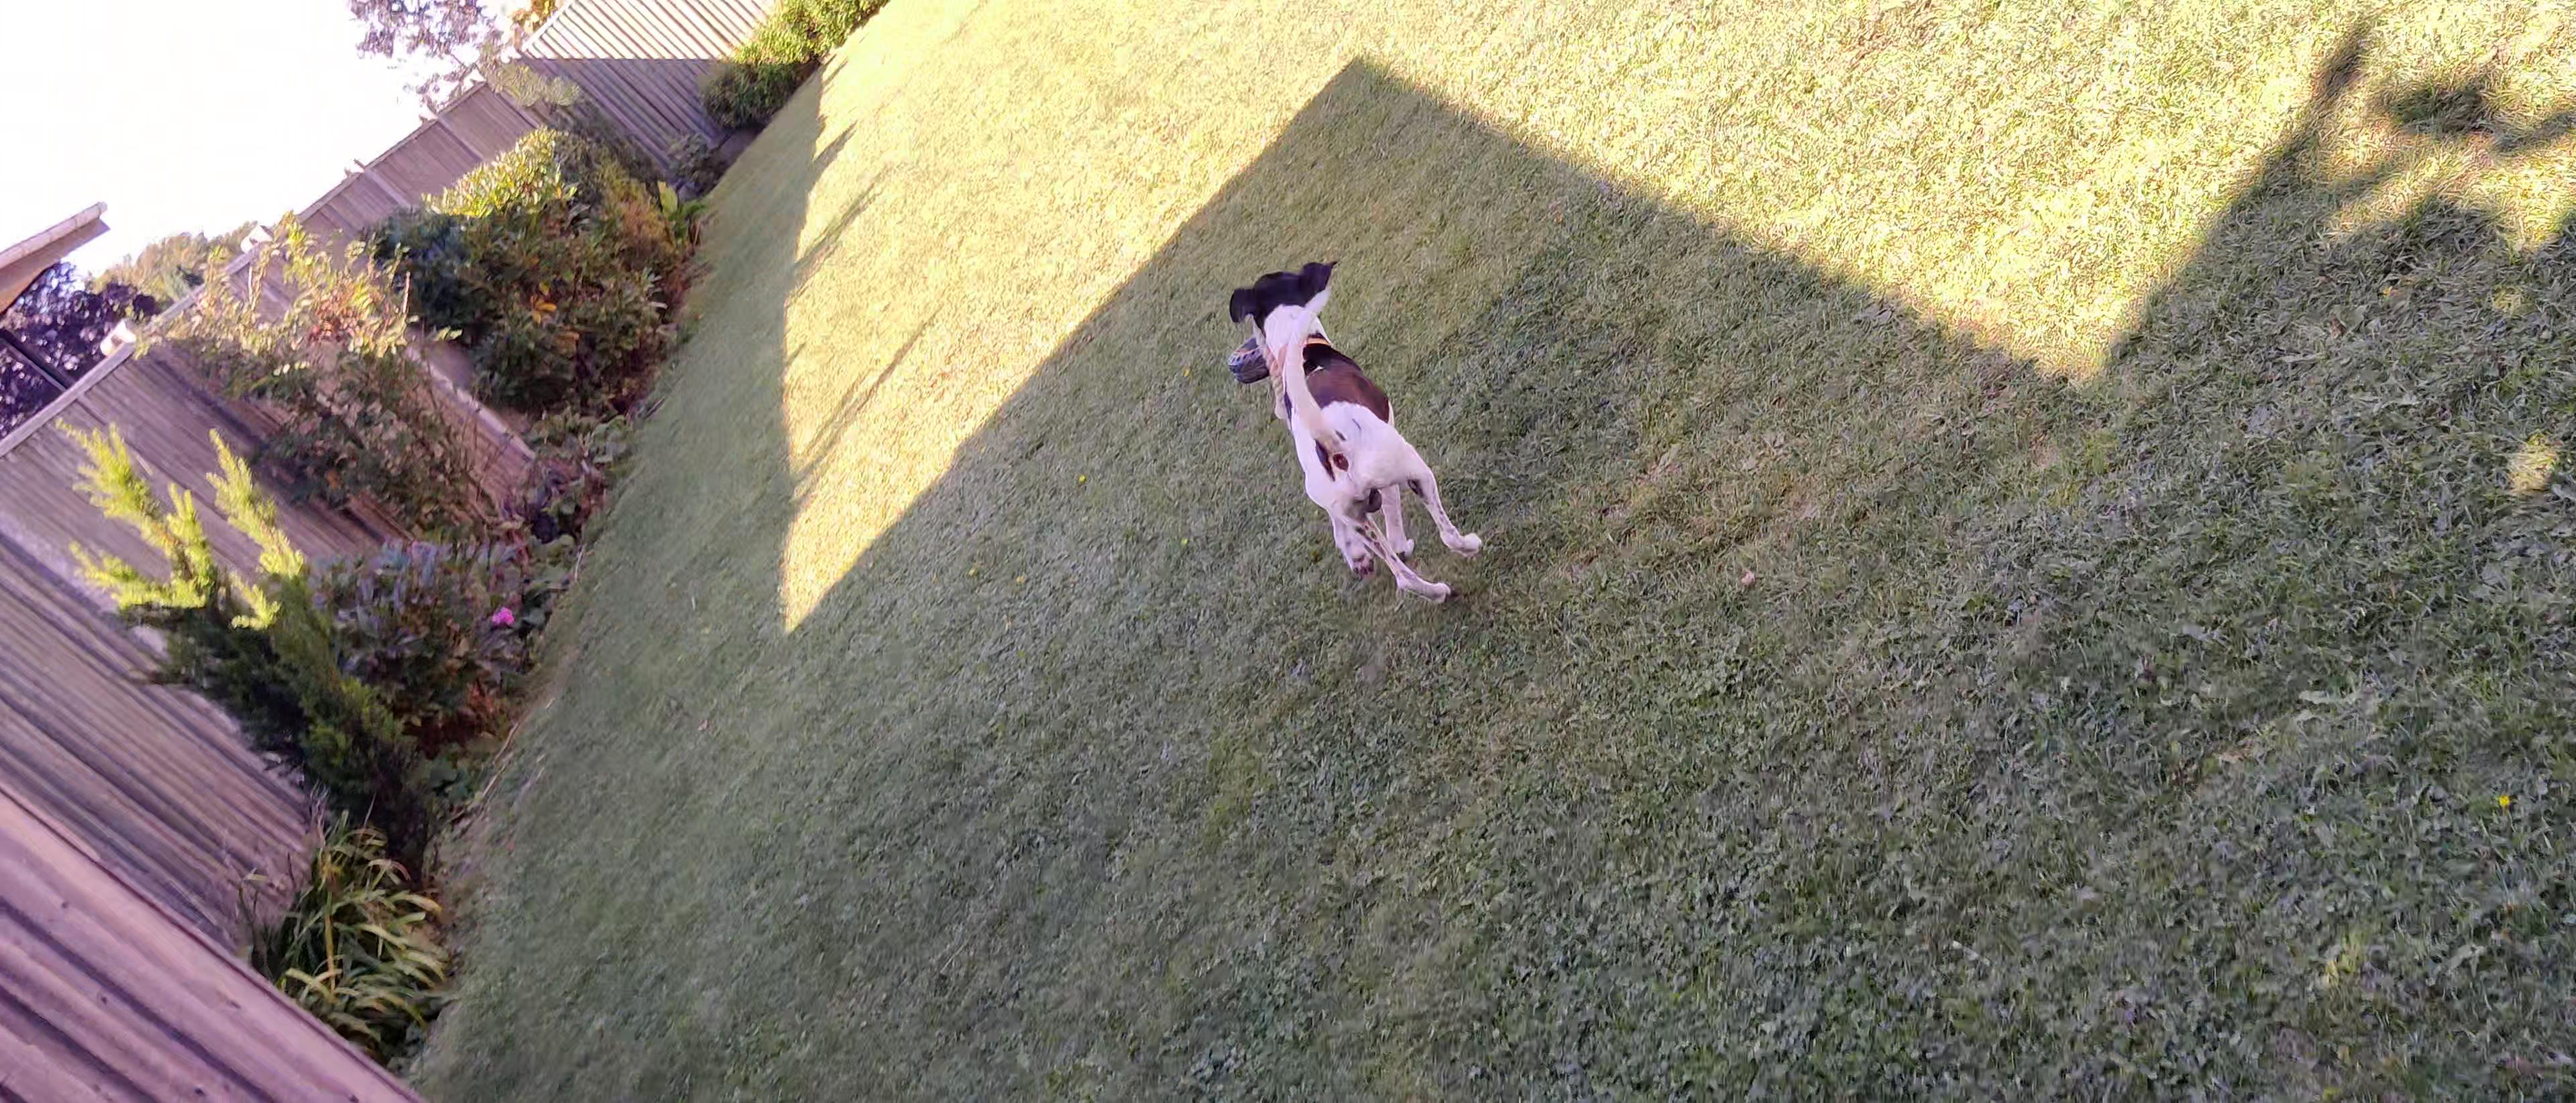Dog: (1217, 222, 1483, 608)
